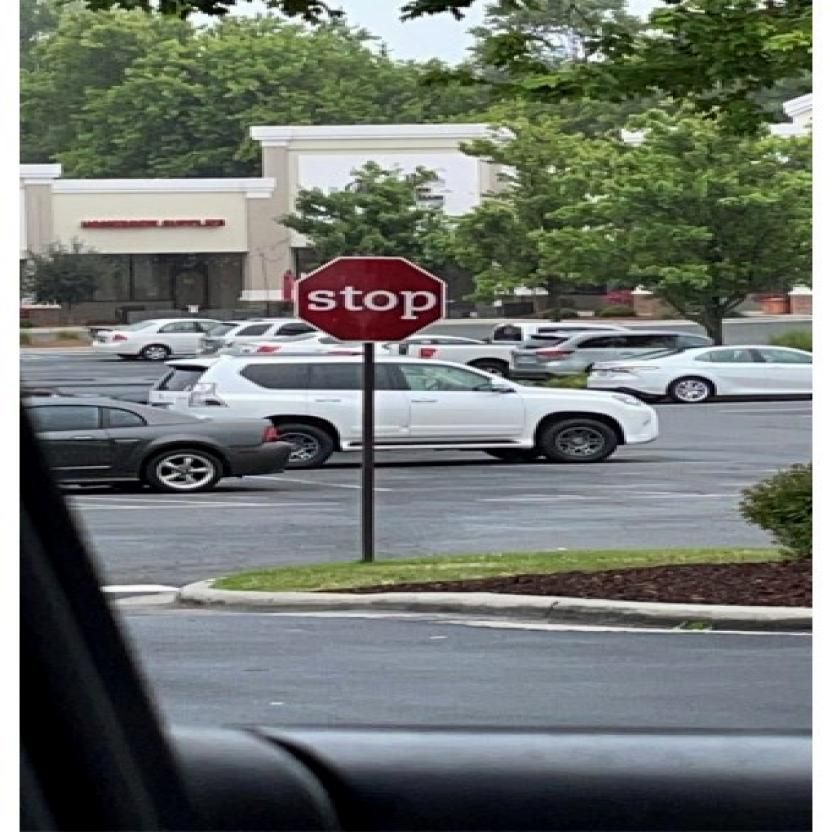Pole: (360, 348, 376, 565)
Sign: (289, 257, 448, 342)
